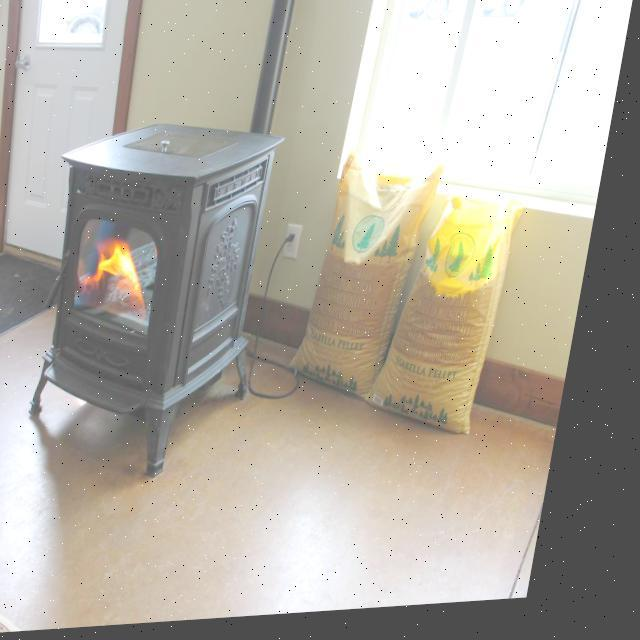Fire: (97, 235, 169, 318)
